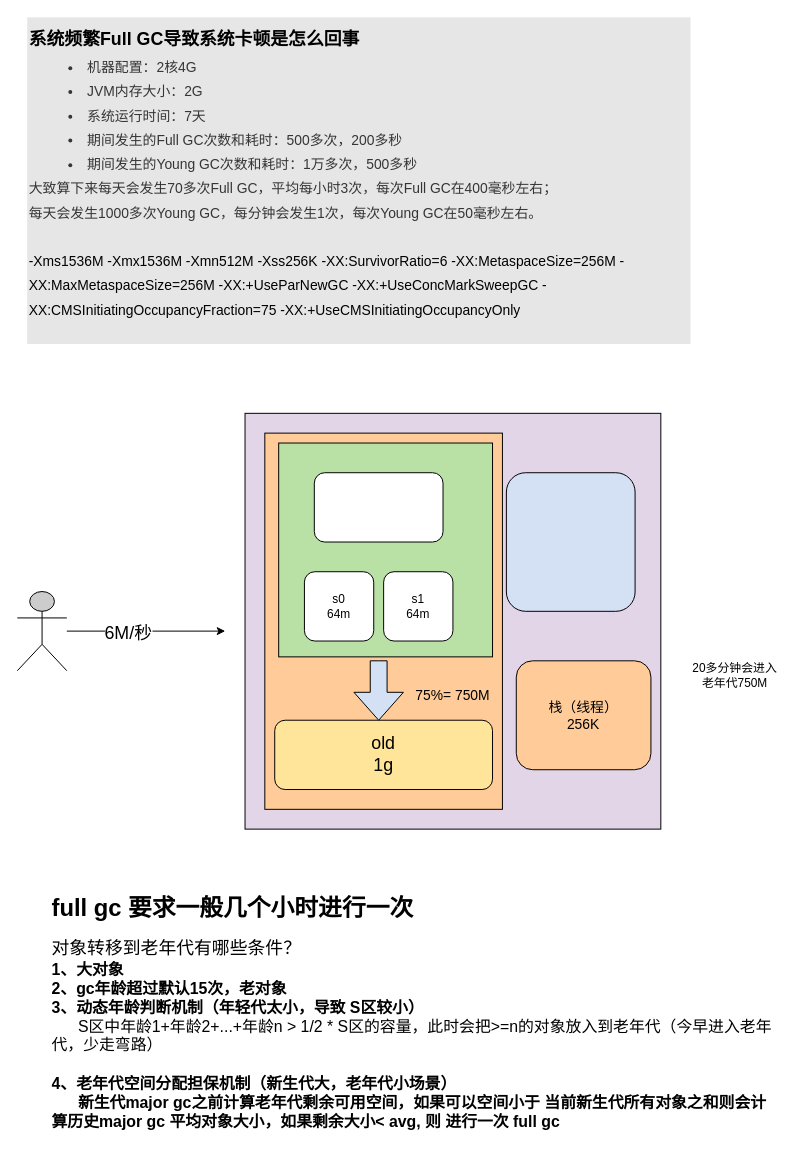
Image size: 797x1172. Some labels were removed from this diagram. The shapes that lost their labels are listed below. From the top down, each one's centre as x and y in pixels, then its label:
the point at 378,507: Eden 384m
the point at 570,541: metadata 256m
the point at 41,631: Actor
